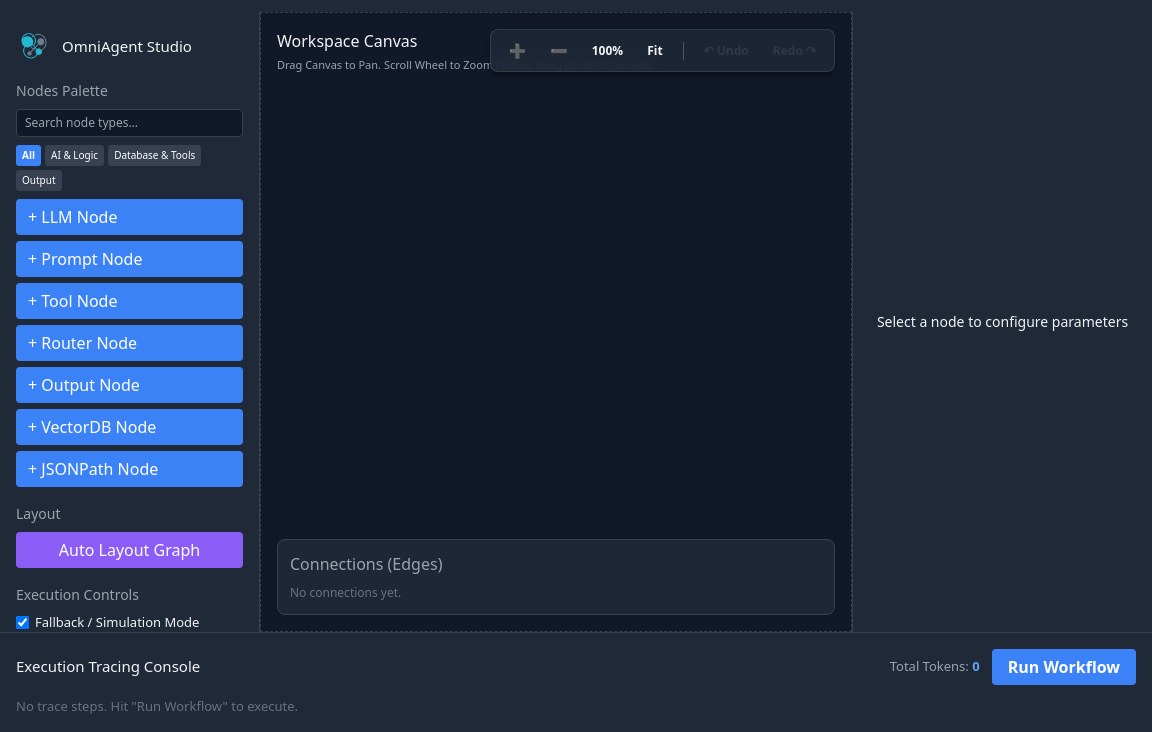
it: Tier 3: Cross-Feature Combinations › 1. Add node -> Select node -> Edit config label -> verify state matches
The width and height of the screenshot is (1152, 732).
Click the button with test id "add-node-LLM": (130, 217) [16, 199, 243, 235]
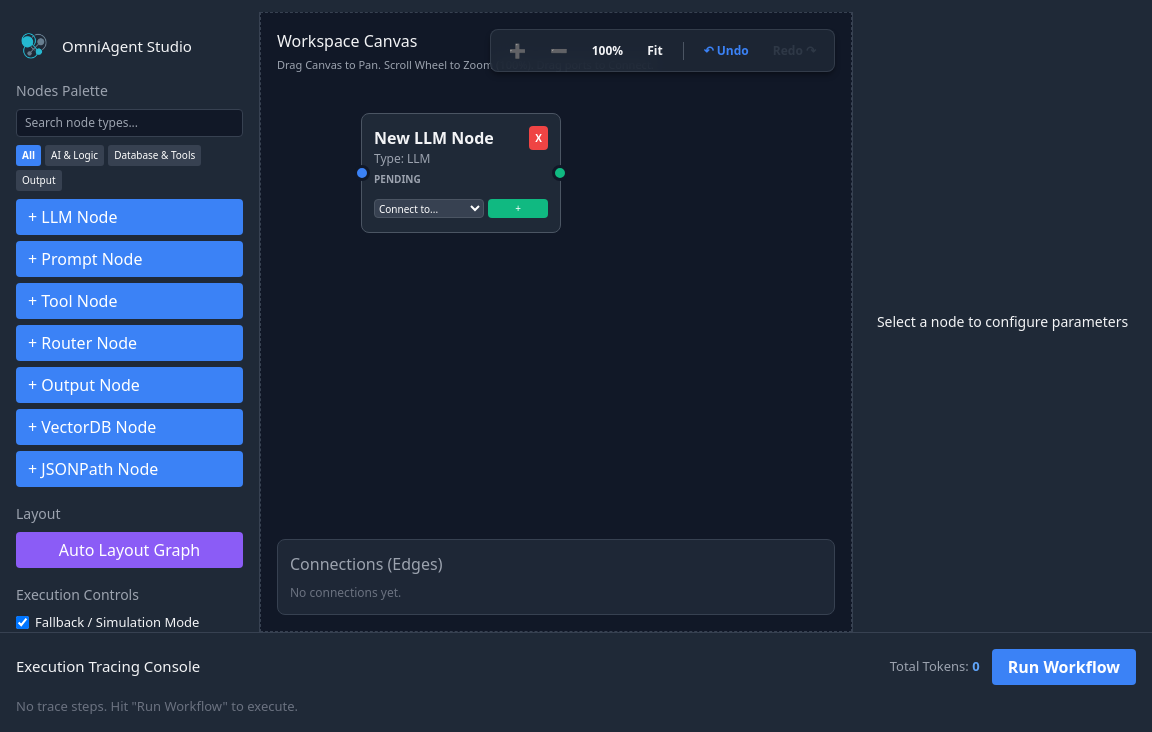
Click the element showing "New LLM Node X Type: LLM pending +": (461, 173) [361, 113, 561, 233]
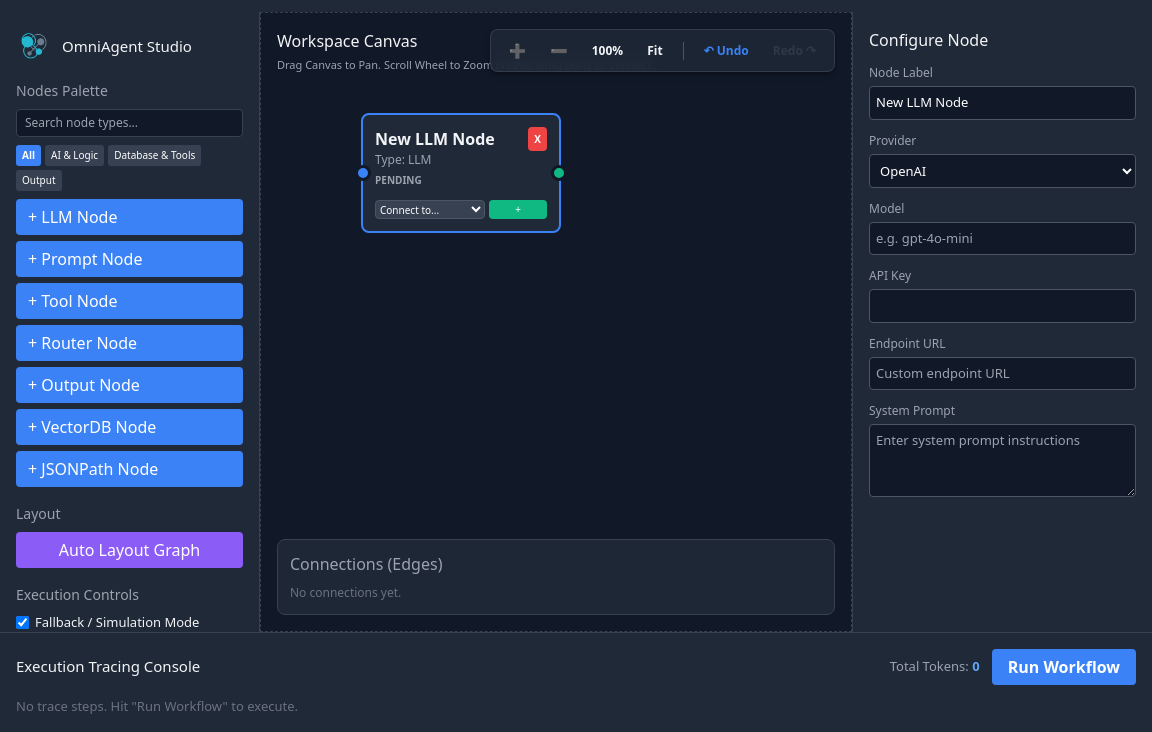
Replace the text in the field with test id "config-label-input" with "Customer LLM": (1002, 103) [869, 86, 1136, 120]
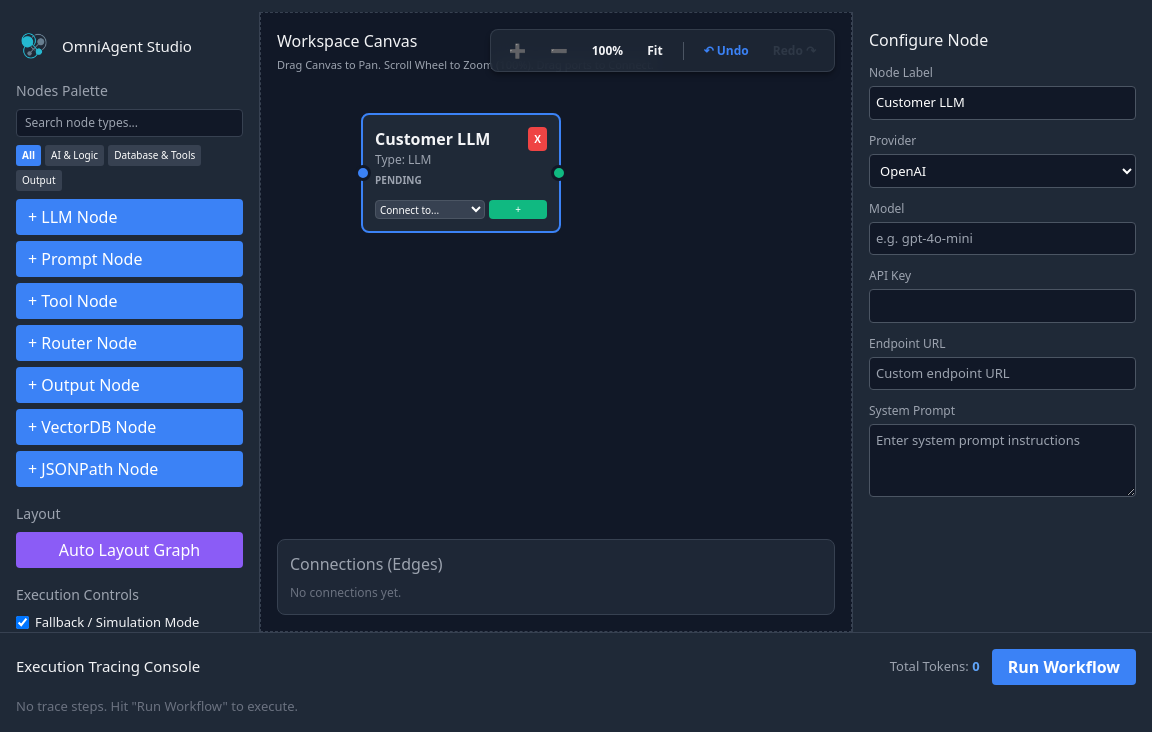
Now the text "Customer LLM" is shown, box [375, 127, 490, 151]
